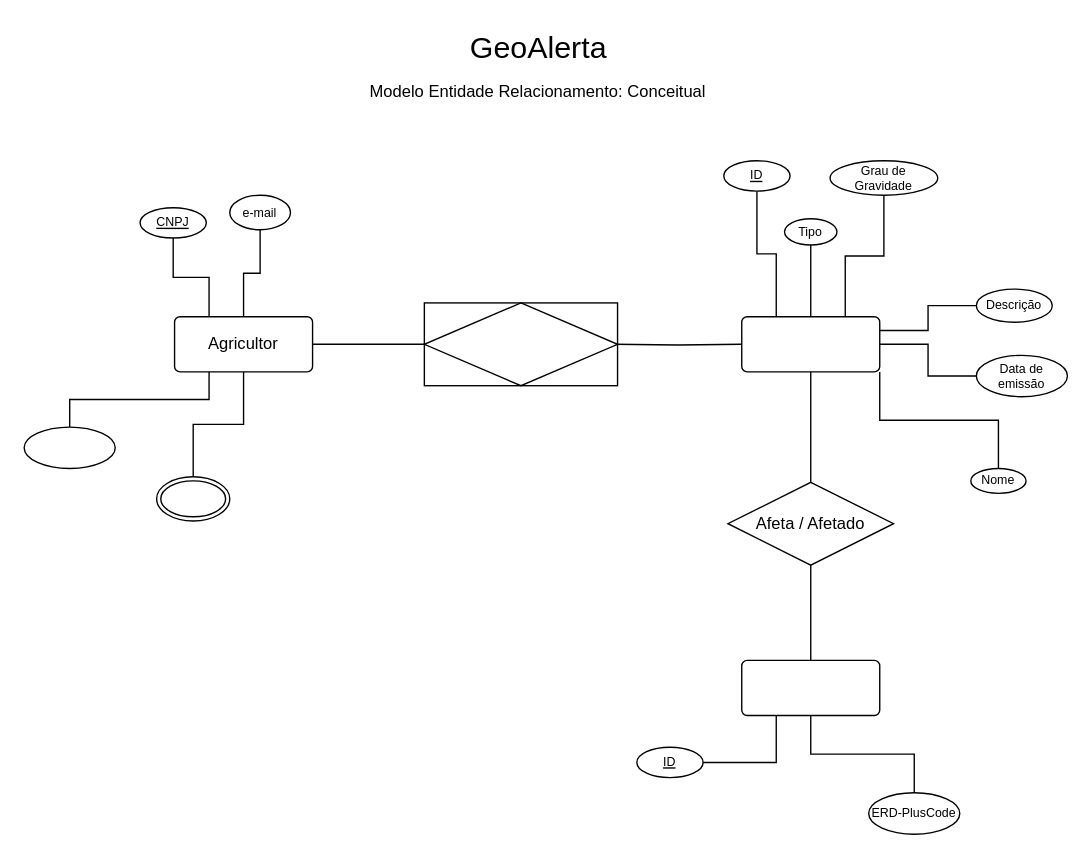
Image size: 1092x858. Some labels were removed from this diagram. The centre of each missing label's shape, as x and y in pixels:
Alertas: pixel 810 343
Endereços: pixel 192 498
Nome Fantasia: pixel 69 447
Notificações Recebidas: pixel 520 344
Regiões: pixel 810 687
